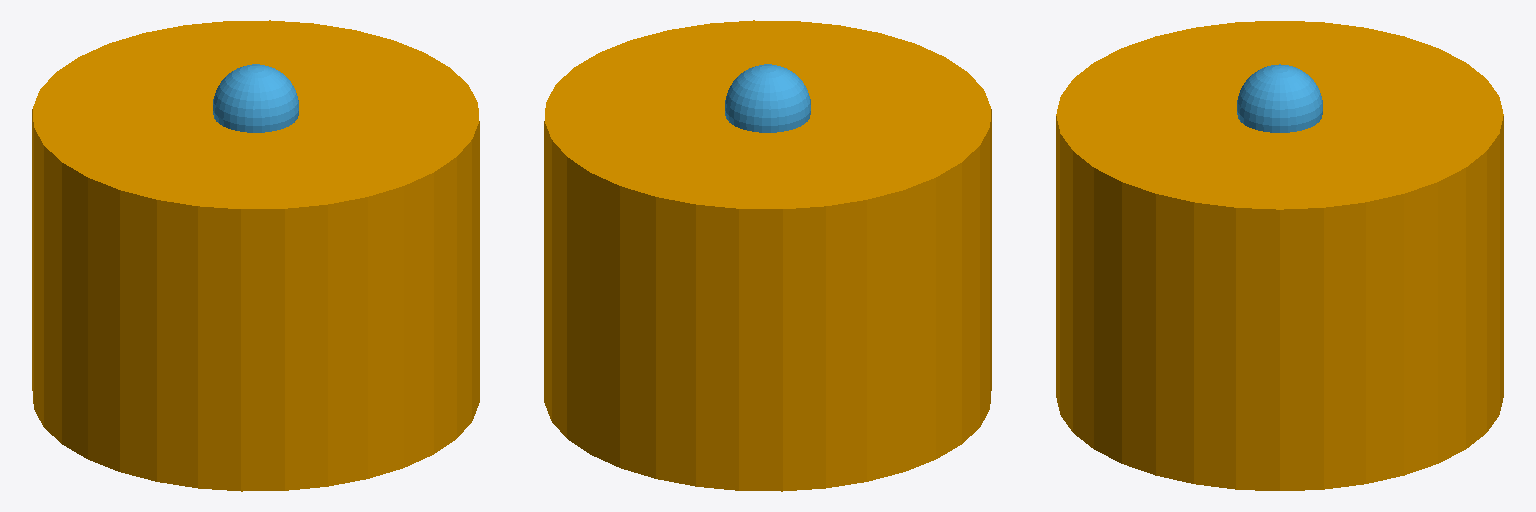
URDF robot description (sensors):
<?xml version="1.0"?>
<robot name="sensors">
  <link name="velodyne_base_link">
    <inertial>
      <mass value="0.83"/>
      <origin xyz="0 0 0"/>
      <inertia ixx="0.000908" ixy="0" ixz="0" iyy="0.000908" iyz="0" izz="0.001104"/>
    </inertial>
    <visual>
      <geometry>
        <cylinder radius="0.0516" length="0.0717"/>
      </geometry>
    </visual>
    <collision>
      <geometry>
        <cylinder radius="0.0516" length="0.0717"/>
      </geometry>
    </collision>
  </link>

  <link name="velodyne_scan_link">
    <inertial>
      <mass value="0.01"/>
      <origin xyz="0 0 0"/>
      <inertia ixx="1e-7" ixy="0" ixz="0" iyy="1e-7" iyz="0" izz="1e-7"/>
    </inertial>
    <visual>
      <origin xyz="0 0 0" rpy="0 0 0"/>
      <geometry>
        <sphere radius="0.01"/>
      </geometry>
    </visual>
  </link>

  <joint name="velodyne_base_scan_joint" type="fixed">
    <origin xyz="0 0 0.0377" rpy="0 0 0"/>
    <parent link="velodyne_base_link"/>
    <child link="velodyne_scan_link"/>
  </joint>

  <gazebo reference="velodyne_scan_link">
    <sensor type="camera" name="camera">
      <update_rate>30.0</update_rate>
      <camera name="head">
        <horizontal_fov>1.3962634</horizontal_fov>
        <image>
          <width>1280</width>
          <height>720</height>
          <format>R8G8B8</format>
        </image>
        <clip>
          <near>0.02</near>
          <far>300</far>
        </clip>
      </camera>
      <plugin name="camera_controller" filename="libgazebo_ros_camera.so">
        <alwaysOn>true</alwaysOn>
        <updateRate>30.0</updateRate>
        <cameraName>wamv/camera</cameraName>
        <imageTopicName>image_raw</imageTopicName>
        <cameraInfoTopicName>camera_info</cameraInfoTopicName>
        <frameName>velodyne_scan_link</frameName>
        <hackBaseline>0.07</hackBaseline>
        <distortionK1>0.0</distortionK1>
        <distortionK2>0.0</distortionK2>
        <distortionK3>0.0</distortionK3>
        <distortionT1>0.0</distortionT1>
        <distortionT2>0.0</distortionT2>
      </plugin>
    </sensor>
  </gazebo>
</robot>

--- Render facts (derived) ---
The picture shows the robot from 3 angles, left to right: view 1: azimuth 30°, elevation 25°; view 2: azimuth 150°, elevation 25°; view 3: azimuth 270°, elevation 25°; orthographic projection.
Model sensors with 2 links and 1 joints (1 fixed), rooted at velodyne_base_link, posed every joint at zero.
Links seen in each view (by area): view 1: velodyne_base_link, velodyne_scan_link; view 2: velodyne_base_link, velodyne_scan_link; view 3: velodyne_base_link, velodyne_scan_link.
Link boxes in pixels (box(x1,y1,x2,y2)): velodyne_base_link: box(32, 20, 479, 491); velodyne_scan_link: box(213, 64, 298, 132); velodyne_base_link: box(544, 20, 991, 491); velodyne_scan_link: box(725, 64, 810, 132); velodyne_base_link: box(1056, 21, 1503, 490); velodyne_scan_link: box(1237, 64, 1322, 132).
Size in the robot's own frame: 0.1032 by 0.1032 by 0.0835 metres.
Geometry: primitives only (box / cylinder / sphere), no mesh files.